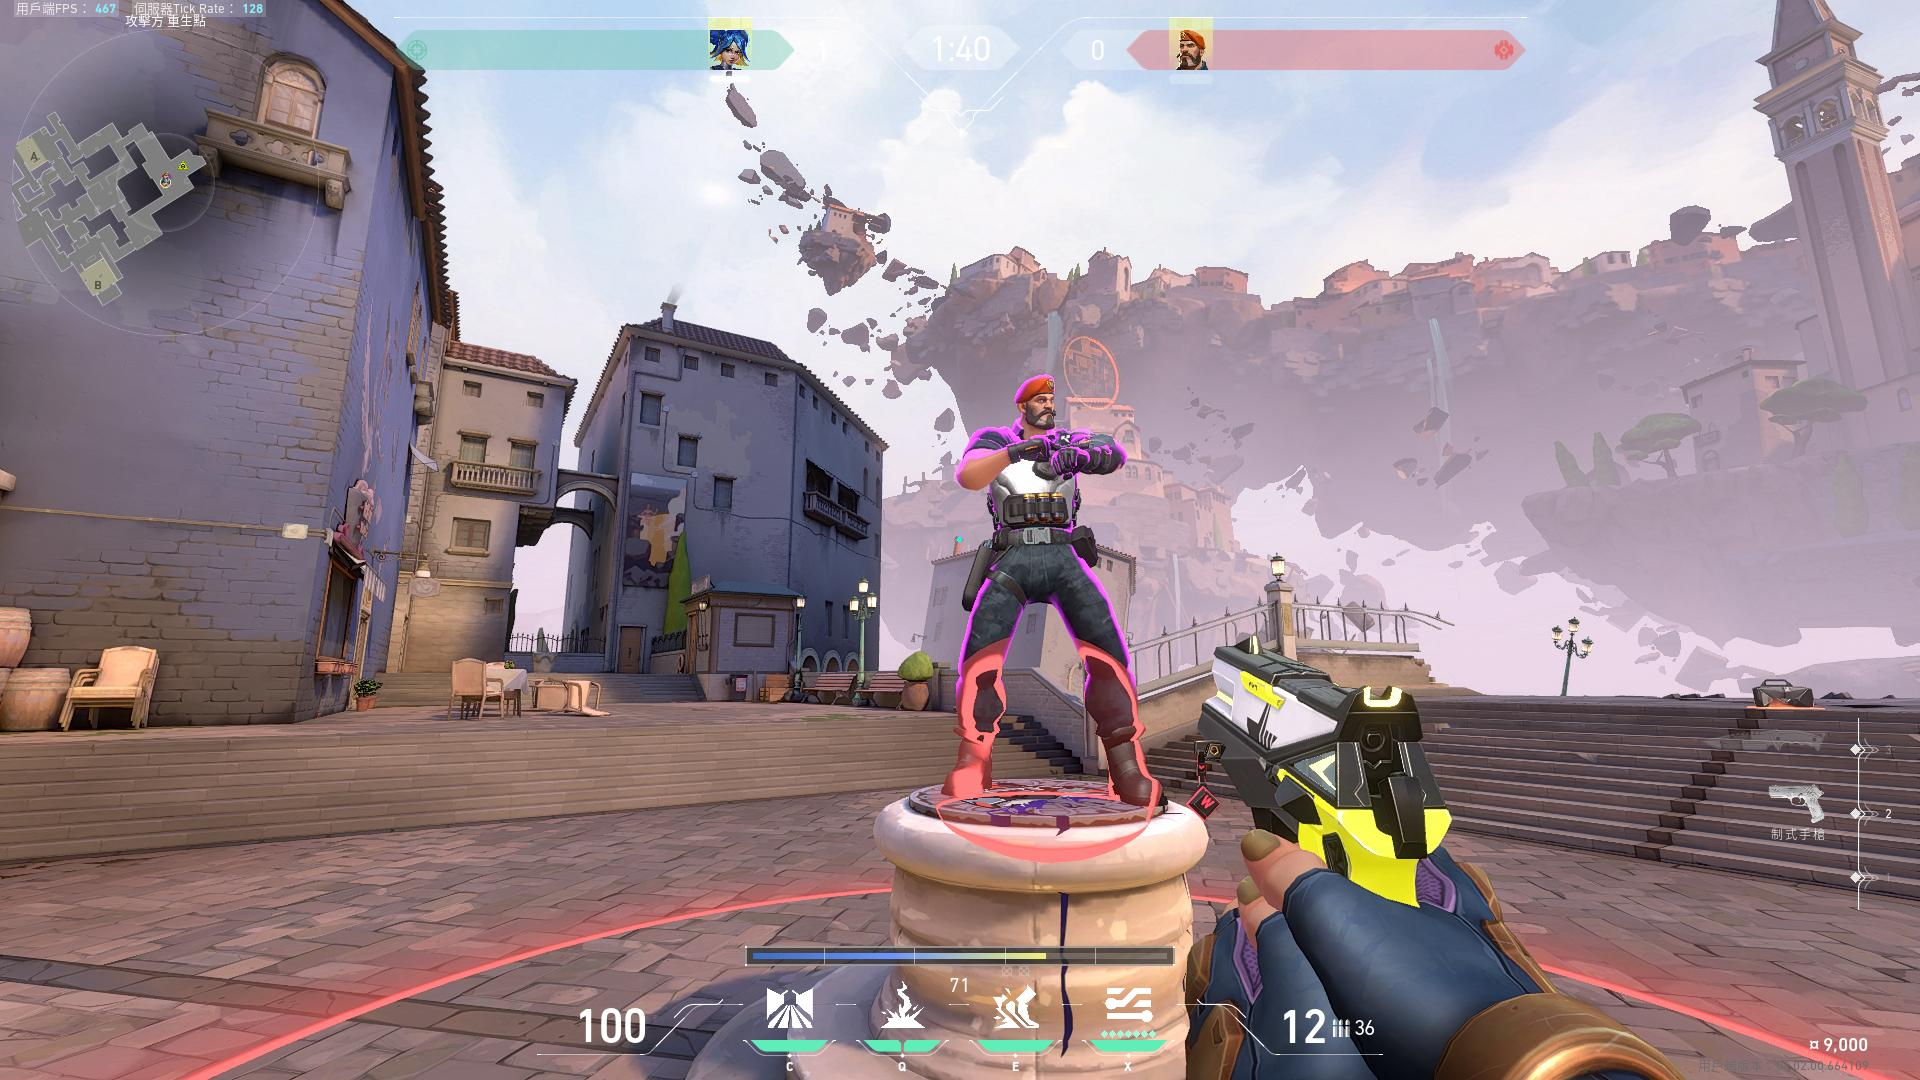enemyBody: (1004, 442, 1068, 549)
enemyHead: (1029, 394, 1054, 423)
